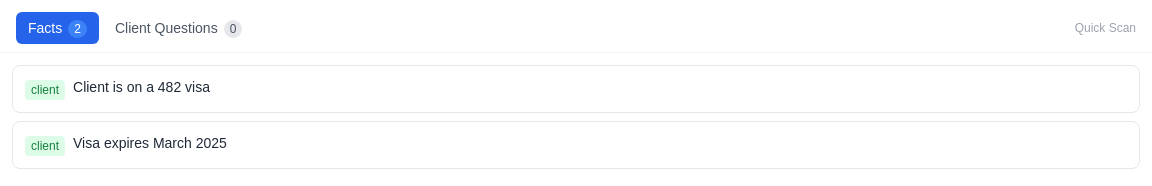
Test: ResultsPanel › with results › shows "No client questions found" message when questions array is empty on the Questions tab
Click the button "Client Questions0" at (179, 28), box x1=103 y1=12 x2=254 y2=44
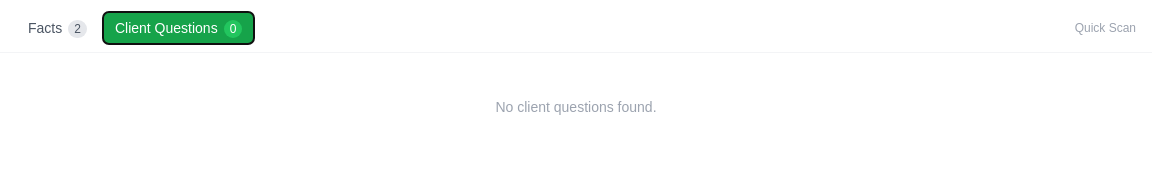
Expected: the text "No client questions found." is shown, x1=495 y1=99 x2=656 y2=115
